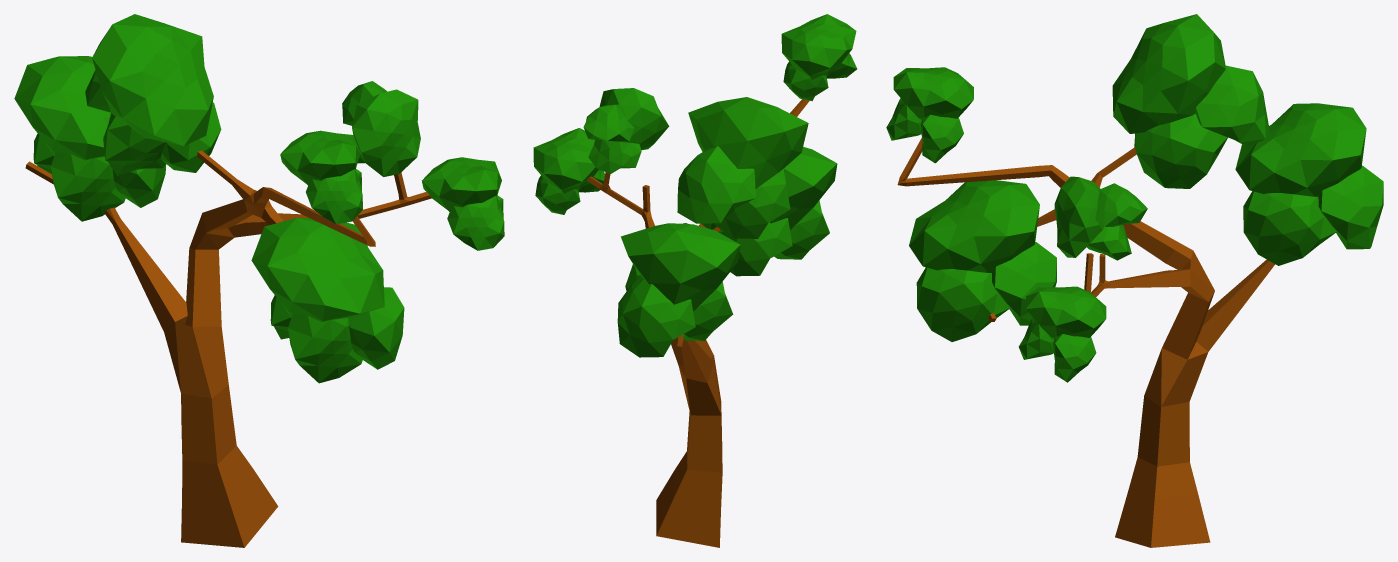
Rendered from derevo2.fbx.
3 renders of one model, left to right at view 1: azimuth 30°, elevation 25°; view 2: azimuth 150°, elevation 25°; view 3: azimuth 270°, elevation 25°, orthographic. The views are drawn at different scales.
Parts seen in each view (by area): view 1: Cube, Icosphere.003, Icosphere.011, Icosphere.007, Icosphere.018, Icosphere.012, Icosphere.008, Icosphere, Icosphere.015, Icosphere.014, Icosphere.004, Icosphere.016 (+5 smaller); view 2: Cube, Icosphere.007, Icosphere.003, Icosphere.005, Icosphere.009, Icosphere, Icosphere.015, Icosphere.011, Icosphere.004, Icosphere.018, Icosphere.013, Icosphere.020 (+6 smaller); view 3: Cube, Icosphere.011, Icosphere.003, Icosphere.007, Icosphere.010, Icosphere.014, Icosphere.006, Icosphere.005, Icosphere.009, Icosphere.015, Icosphere, Icosphere.013 (+7 smaller).
Part boxes in pixels (x1=…): Cube: x1=25, y1=150, x2=431, y2=547; Icosphere.003: x1=92, y1=14, x2=213, y2=145; Icosphere.011: x1=251, y1=218, x2=384, y2=321; Icosphere.007: x1=14, y1=56, x2=110, y2=160; Icosphere.018: x1=352, y1=89, x2=420, y2=176; Icosphere.012: x1=288, y1=314, x2=363, y2=383; Icosphere.008: x1=51, y1=152, x2=125, y2=221; Icosphere: x1=280, y1=130, x2=360, y2=185; Icosphere.015: x1=422, y1=157, x2=501, y2=211; Icosphere.014: x1=348, y1=287, x2=404, y2=369; Icosphere.004: x1=103, y1=113, x2=165, y2=175; Icosphere.016: x1=447, y1=195, x2=504, y2=250; Cube: x1=586, y1=99, x2=809, y2=547; Icosphere.007: x1=620, y1=223, x2=740, y2=311; Icosphere.003: x1=688, y1=97, x2=808, y2=188; Icosphere.005: x1=677, y1=146, x2=755, y2=223; Icosphere.009: x1=617, y1=275, x2=695, y2=357; Icosphere: x1=781, y1=14, x2=856, y2=79; Icosphere.015: x1=533, y1=128, x2=598, y2=193; Icosphere.011: x1=770, y1=147, x2=837, y2=229; Icosphere.004: x1=714, y1=169, x2=790, y2=238; Icosphere.018: x1=599, y1=88, x2=669, y2=150; Icosphere.013: x1=719, y1=218, x2=792, y2=276; Icosphere.020: x1=583, y1=104, x2=634, y2=141; Cube: x1=897, y1=138, x2=1275, y2=547; Icosphere.011: x1=909, y1=180, x2=1039, y2=272; Icosphere.003: x1=1112, y1=14, x2=1225, y2=133; Icosphere.007: x1=1235, y1=103, x2=1366, y2=196; Icosphere.010: x1=1243, y1=191, x2=1336, y2=265; Icosphere.014: x1=916, y1=267, x2=1009, y2=341; Icosphere.006: x1=1134, y1=113, x2=1227, y2=188; Icosphere.005: x1=1195, y1=65, x2=1269, y2=146; Icosphere.009: x1=1318, y1=165, x2=1383, y2=249; Icosphere.015: x1=1026, y1=286, x2=1106, y2=338; Icosphere: x1=893, y1=67, x2=973, y2=119; Icosphere.013: x1=992, y1=242, x2=1056, y2=325.
Size of the model in its own units: 904 by 1288 by 1180.
